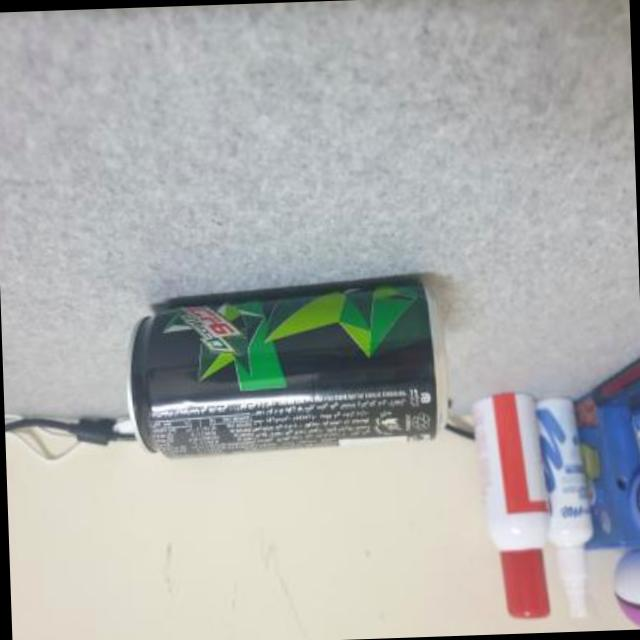metal: (131, 285, 447, 457)
